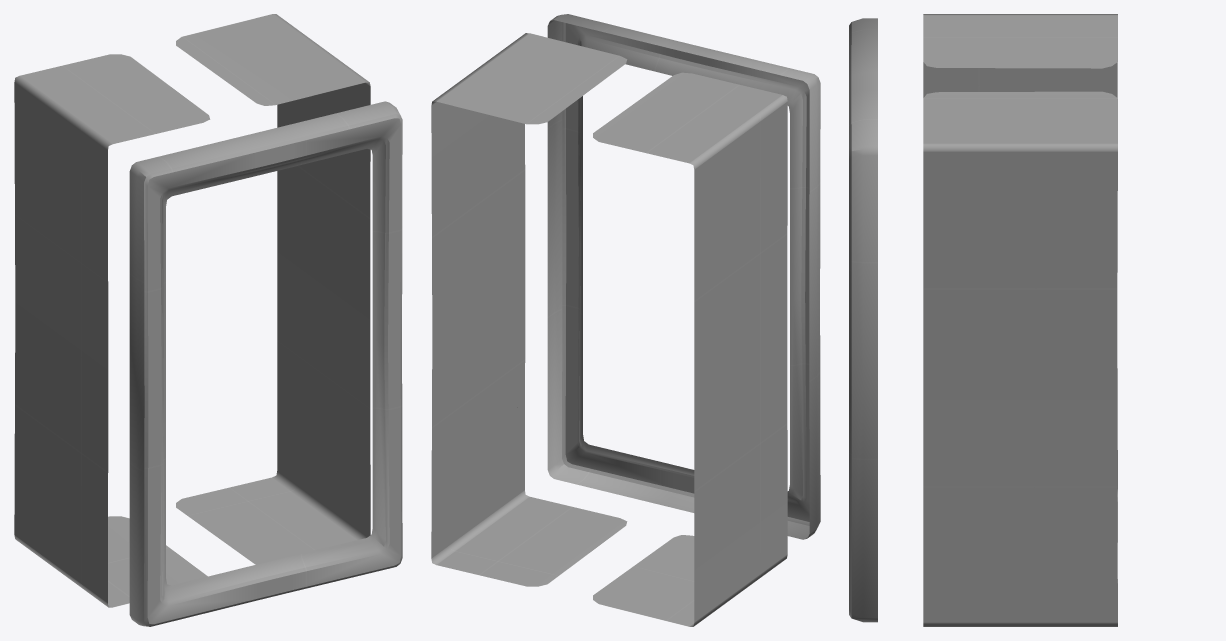
File: MeshToaster_11_0_GeomSubset_0.obj
3 renders of one model, left to right at view 1: azimuth 30°, elevation 25°; view 2: azimuth 150°, elevation 25°; view 3: azimuth 270°, elevation 25°, orthographic. The views are drawn at different scales.
Parts seen in each view (by area): view 1: MeshToaster_11_0_GeomSubset_0; view 2: MeshToaster_11_0_GeomSubset_0; view 3: MeshToaster_11_0_GeomSubset_0.
Part boxes in pixels (bbox=[...]): MeshToaster_11_0_GeomSubset_0: bbox=[14, 14, 402, 626]; MeshToaster_11_0_GeomSubset_0: bbox=[431, 14, 820, 626]; MeshToaster_11_0_GeomSubset_0: bbox=[849, 14, 1117, 626].
Size of the model in its own units: 0.1729 by 0.2913 by 0.1986.
